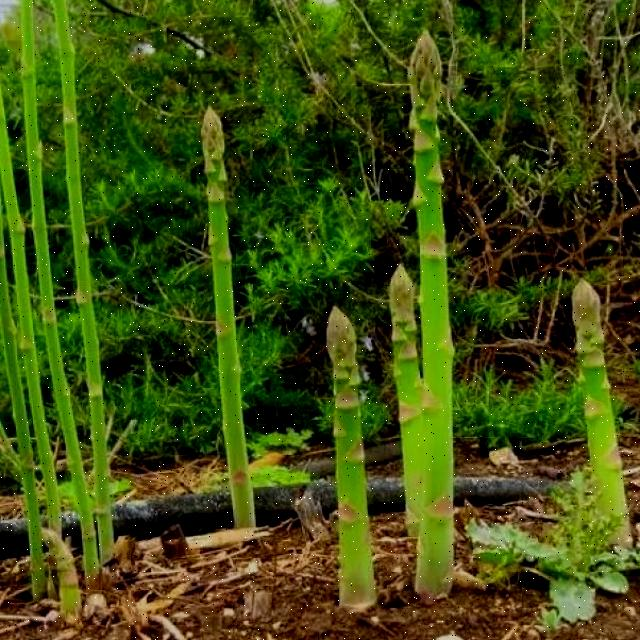aspargus: (409, 33, 453, 599), (200, 108, 253, 530), (324, 306, 376, 612), (573, 281, 629, 545)
